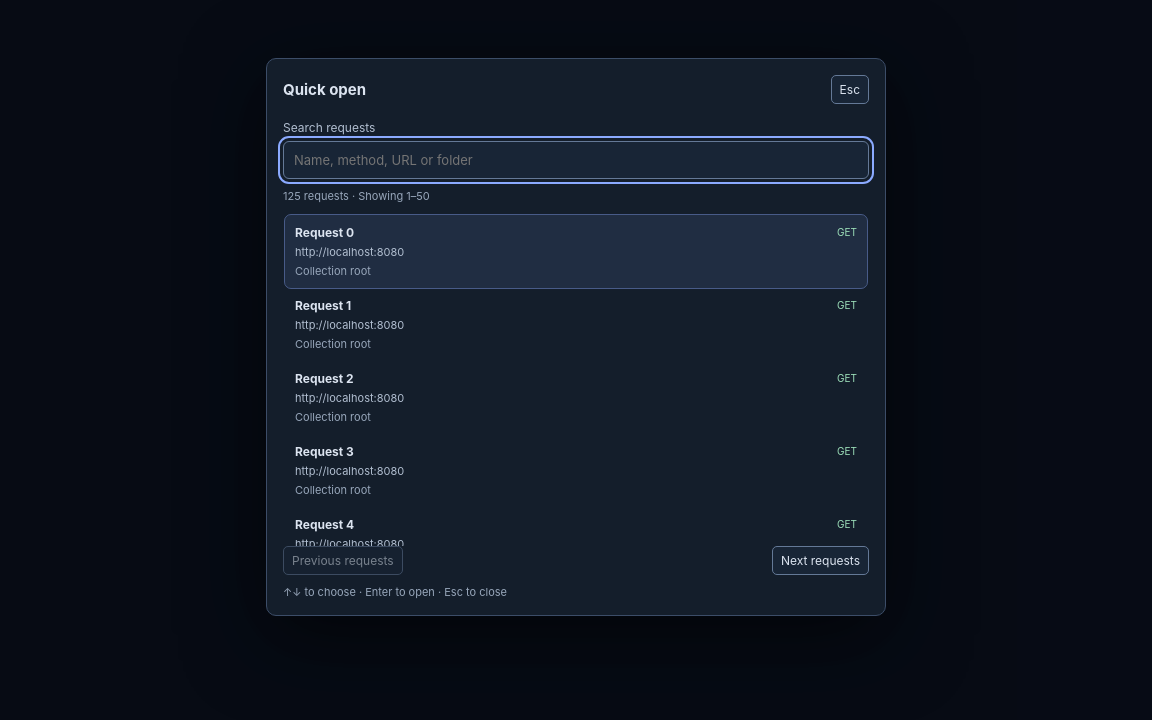
Test: bounds rendered results while keyboard and page controls can reach every match
Expected: the message "125 requests · Showing 1–50" is shown, [283,189,430,203]
Press ArrowUp in the dropdown labelled "Search requests", box [283,141,869,179]
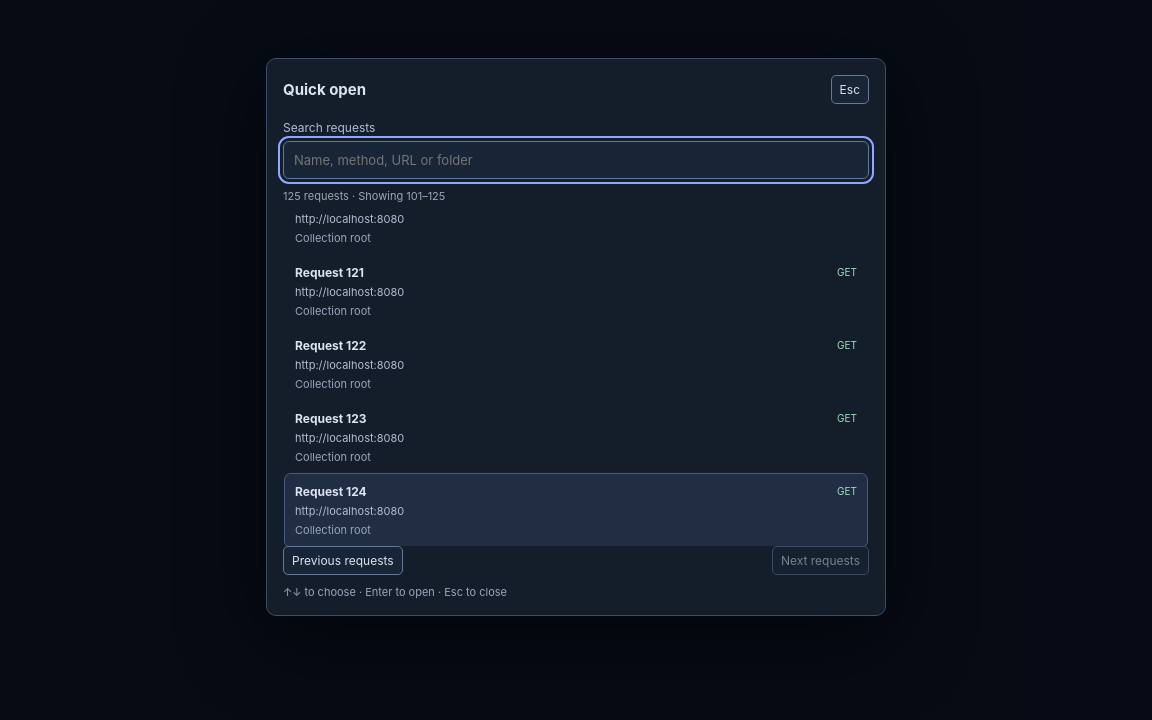
Expected: the option "Request 124 GET http://localhost:8080 Collection root" has attribute aria-posinset="125", [285,474,867,546]
Press Enter in the dropdown labelled "Search requests", box [283,141,869,179]
Press ArrowDown in the dropdown labelled "Search requests", box [283,141,869,179]
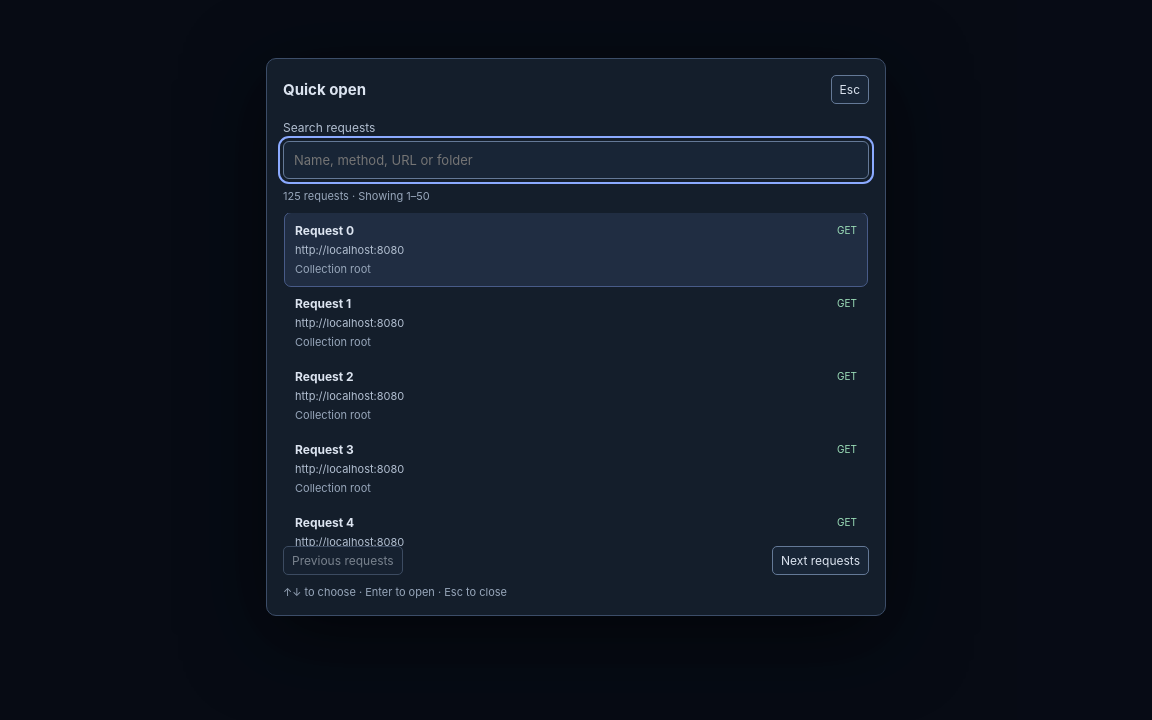
Expected: the message "125 requests · Showing 1–50" is shown, [283,189,430,203]
Click the button "Next requests".
click(820, 561)  # box [772,546,869,575]
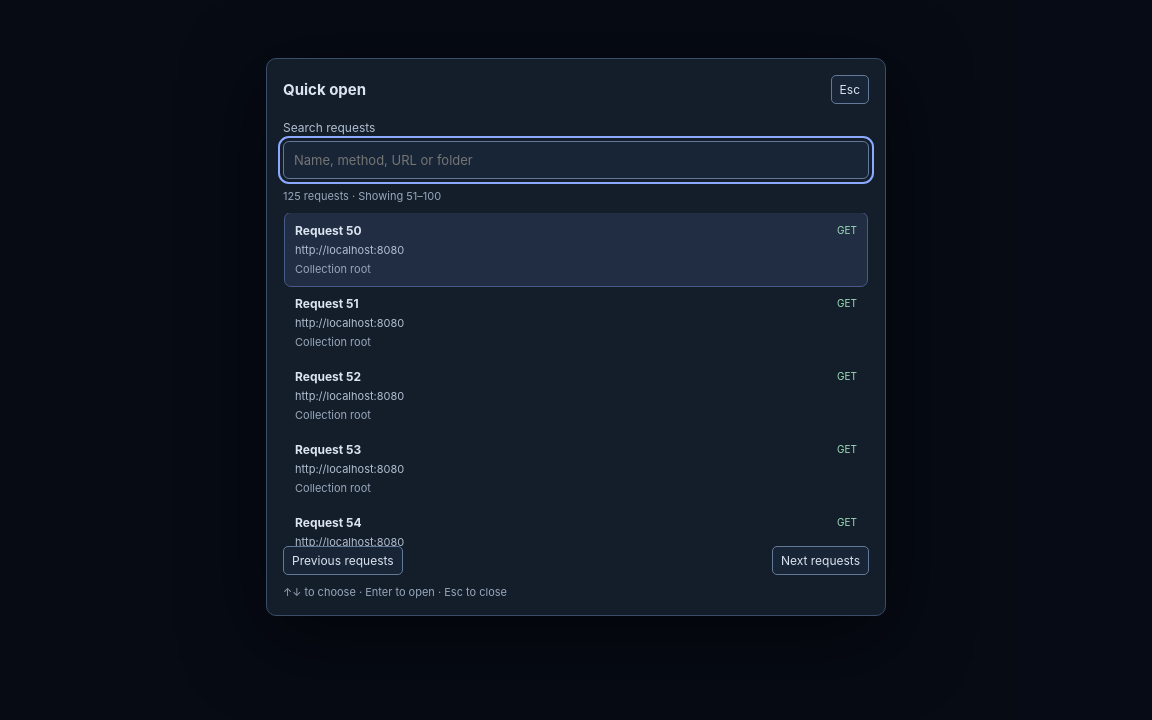
Expected: the message "125 requests · Showing 51–100" is shown, [283,189,441,203]
Click the button "Previous requests".
click(343, 561)  # box [283,546,403,575]
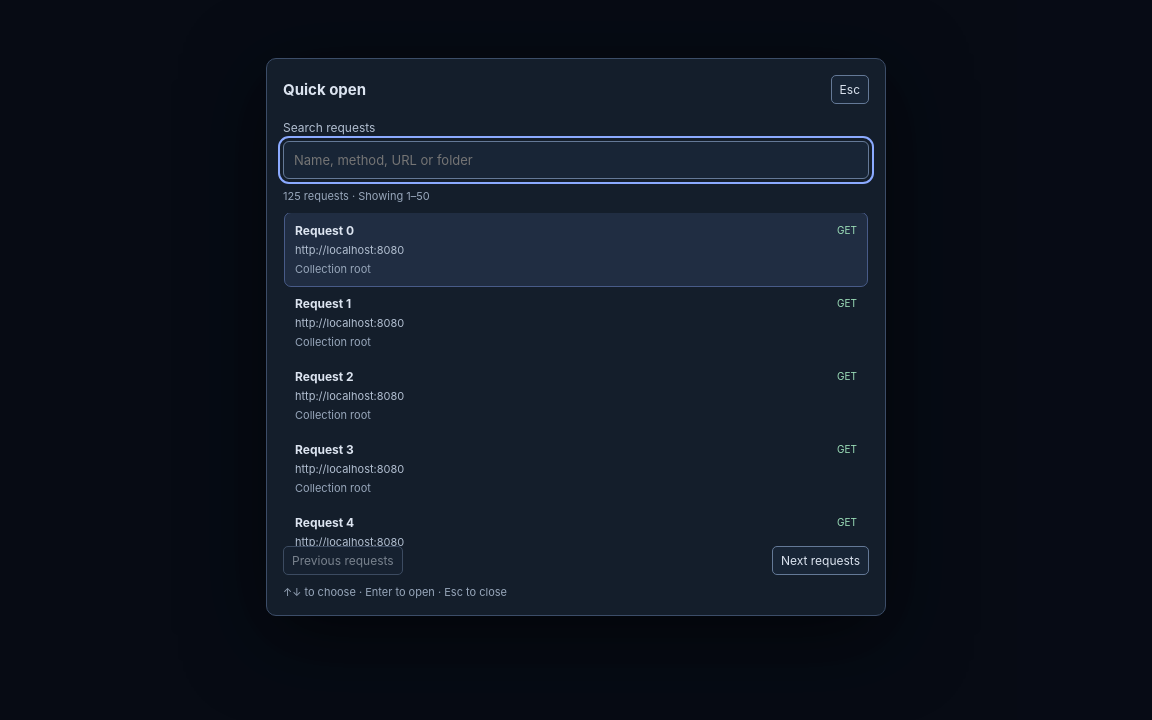
Expected: the option "Request 0 GET http://localhost:8080 Collection root" has attribute aria-posinset="1", [285,213,867,286]
Type "Request 124" into the dropdown labelled "Search requests".
click(576, 160); type("Request 124")  # box [283,141,869,179]
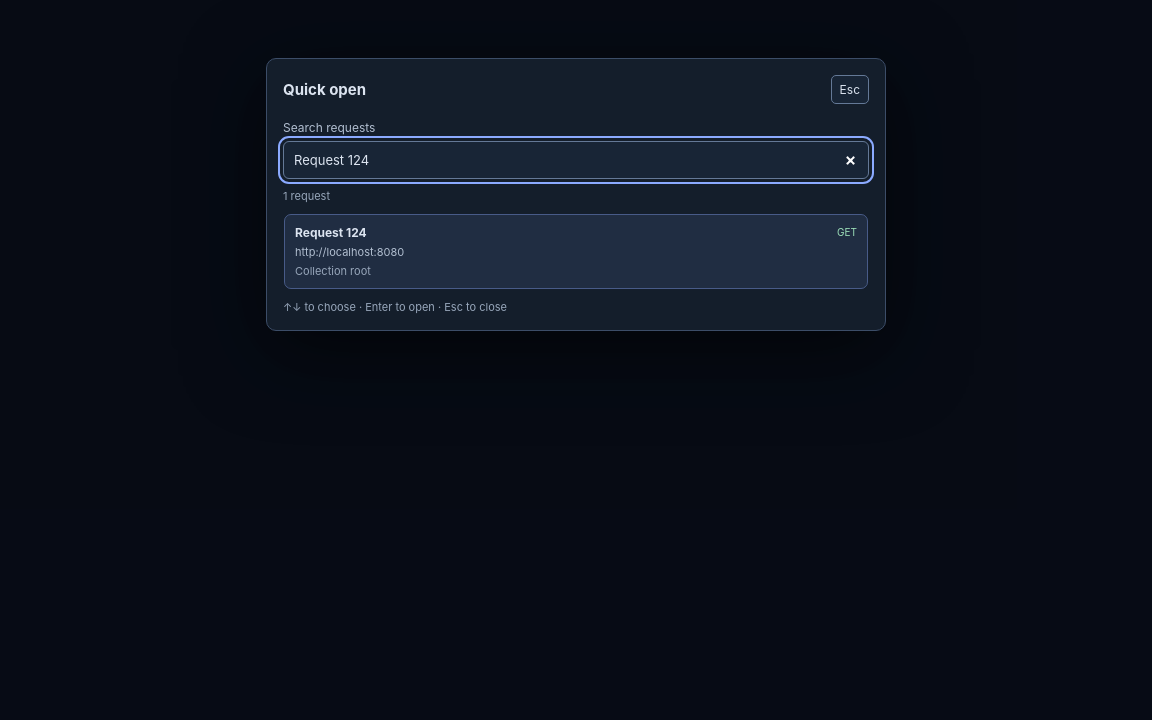
Expected: the number of options is 1, [285,215,867,288]
